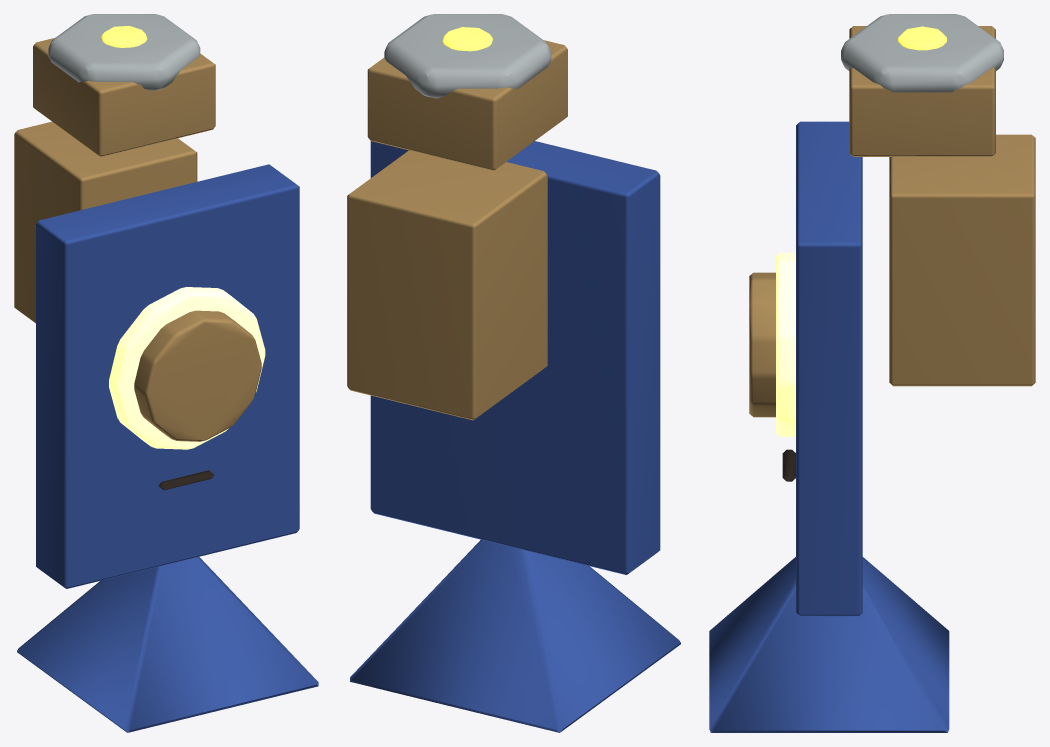
The model's file is errant_arm_warder.glb.
3 renders of one model, left to right at view 1: azimuth 30°, elevation 25°; view 2: azimuth 150°, elevation 25°; view 3: azimuth 270°, elevation 25°, orthographic. The views are drawn at different scales.
Visible parts, largest first — view 1: errant_arm_warder; view 2: errant_arm_warder; view 3: errant_arm_warder.
Part boxes in pixels (x1,y1,x2,y2): errant_arm_warder: (14,14,318,732); errant_arm_warder: (347,14,680,732); errant_arm_warder: (709,14,1035,732).
Size of the model in its own units: 0.44 by 1.07 by 0.4904.
Materials: 1 (1 with a texture image).
